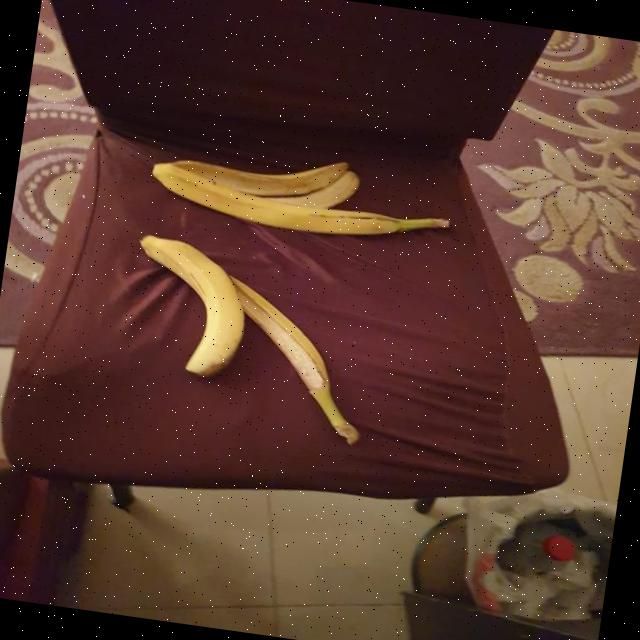banana-peel: (114, 230, 384, 447), (144, 133, 458, 253), (120, 231, 256, 382)
